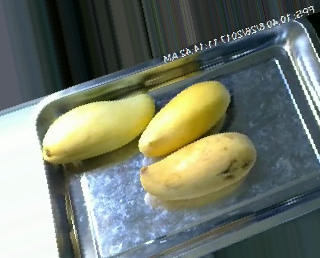Mango: (43, 93, 153, 164), (141, 132, 257, 199), (138, 80, 230, 158)
